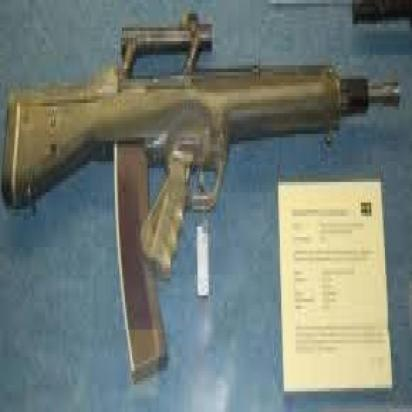Gun: (0, 6, 404, 386)
